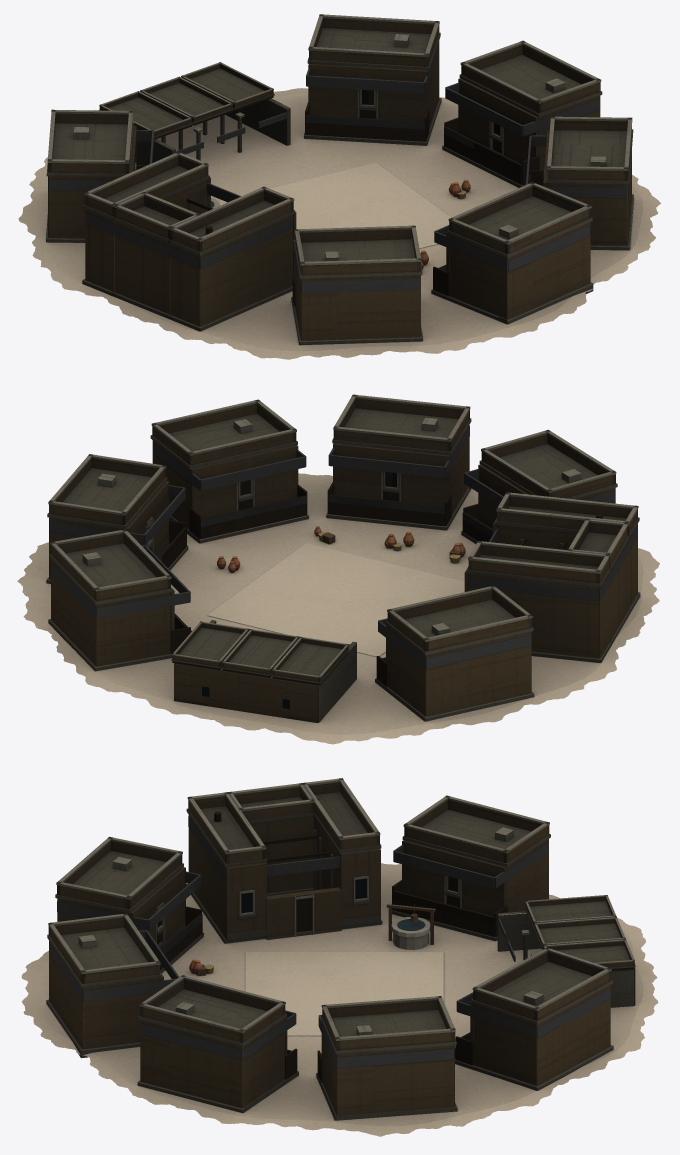
Rendered from bronze-town-small-b-israelite.glb.
The picture shows the model from 3 angles, top to bottom: view 1: azimuth 30°, elevation 25°; view 2: azimuth 150°, elevation 25°; view 3: azimuth 270°, elevation 25°; orthographic projection.
Parts seen in each view (by area): view 1: LOD0; view 2: LOD0; view 3: LOD0.
Boxes of the visible parts, bbox=[...] form: LOD0: bbox=[18, 14, 660, 359]; LOD0: bbox=[17, 394, 659, 744]; LOD0: bbox=[21, 778, 658, 1136].
Size of what is drawn, in the model's own units: 4.01 by 0.6358 by 3.95.
Materials: 3 (3 with a texture image).
